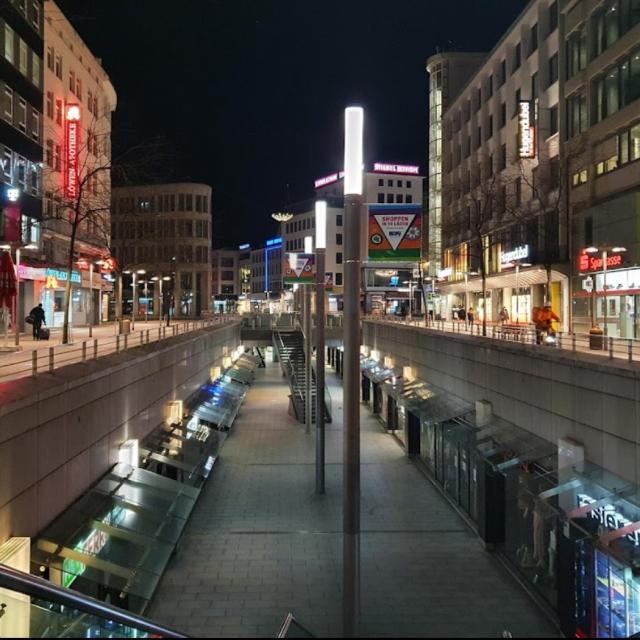Werbetafel frei: (367, 203, 426, 266)
